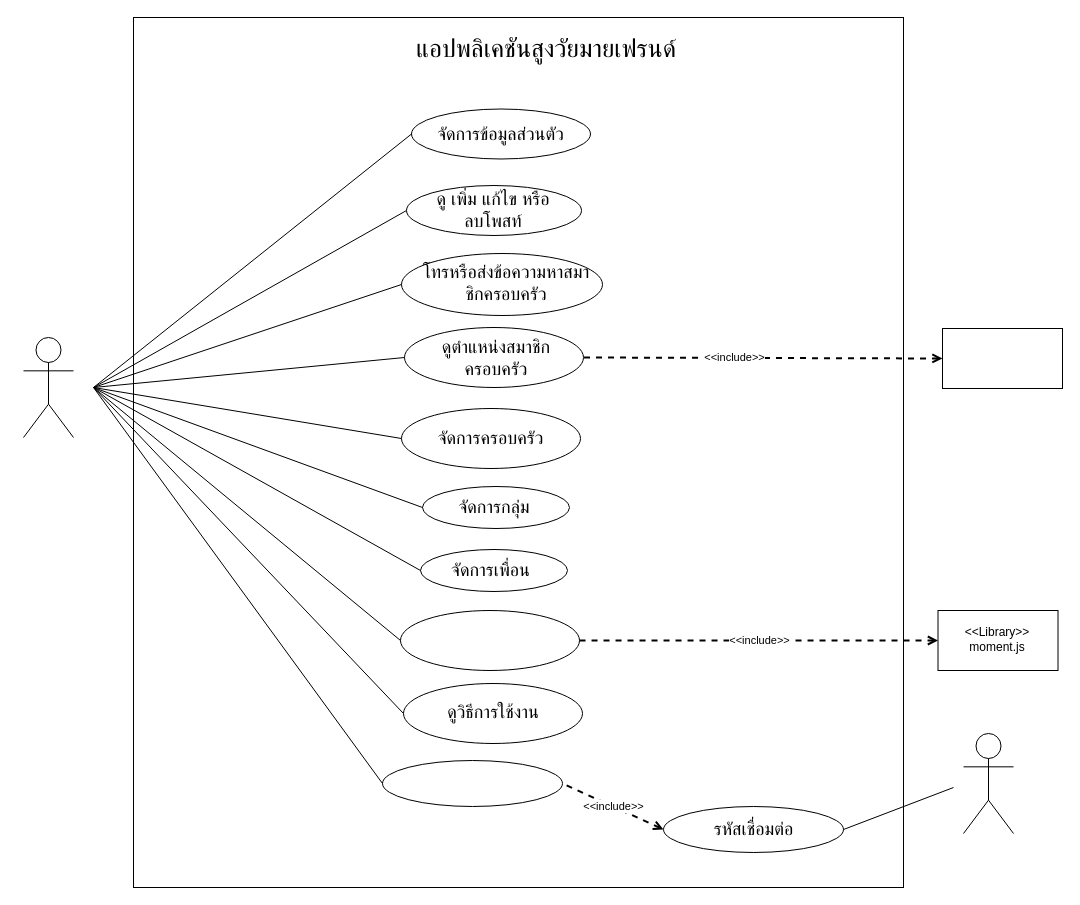
This 1080x905 diagram has some shape labels left out. Here are the shapes that lost their labels. From the top down, the box of each, then its label:
(942, 328, 1062, 388): <<Library>> Google Maps API
(22, 336, 74, 438): ผู้ใช้งาน
(400, 610, 580, 670): เพิ่ม หรือลบการแจ้งเตือน
(382, 760, 562, 806): คุยกับแชทบอท
(962, 732, 1014, 834): Dialogflow
